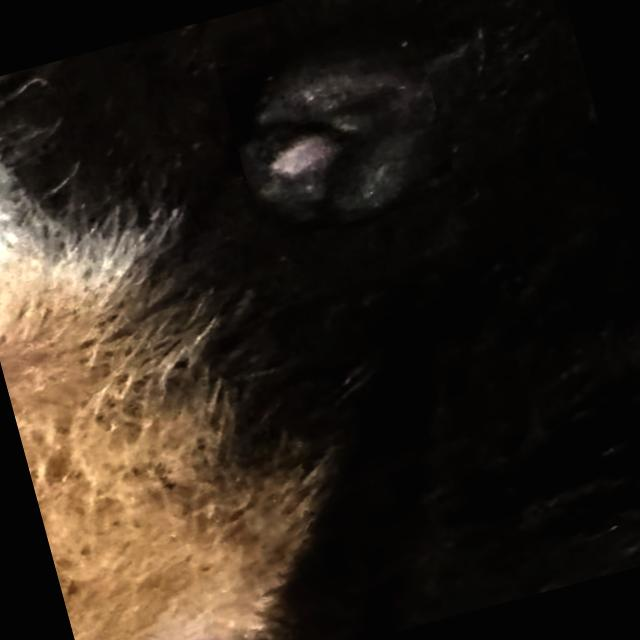fem: (219, 20, 458, 244)
